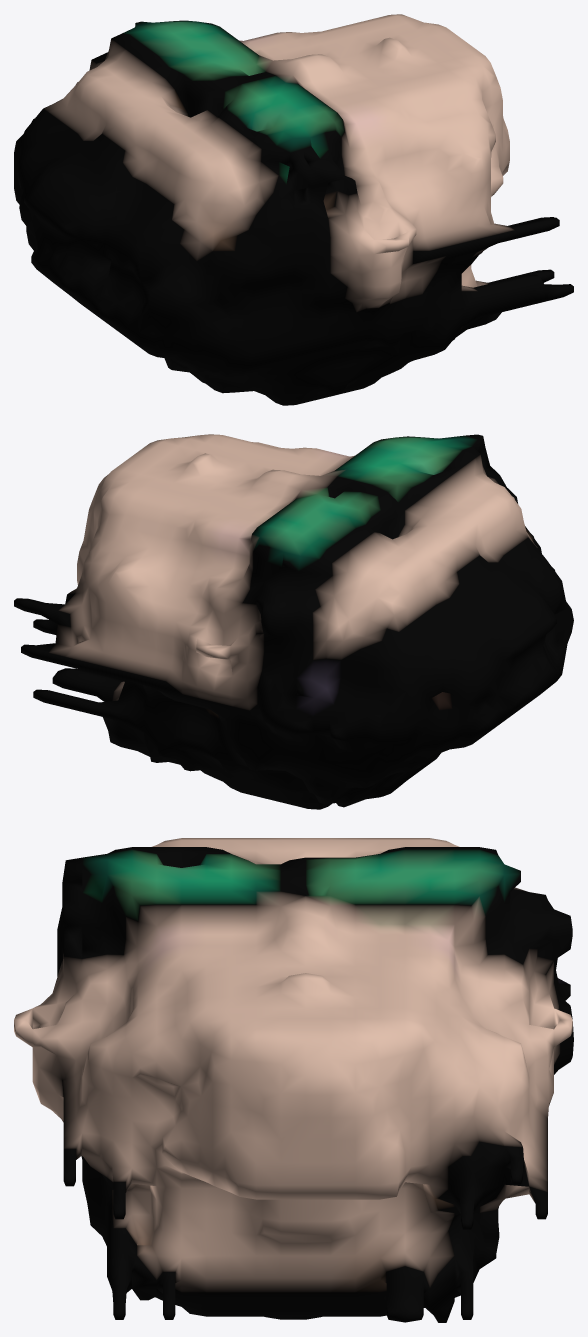
3 renders of one model, top to bottom at view 1: azimuth 30°, elevation 25°; view 2: azimuth 150°, elevation 25°; view 3: azimuth 270°, elevation 25°, orthographic. The views are drawn at different scales.
Bounding box in the file's own units: 1.33 × 0.9 × 1.13.
